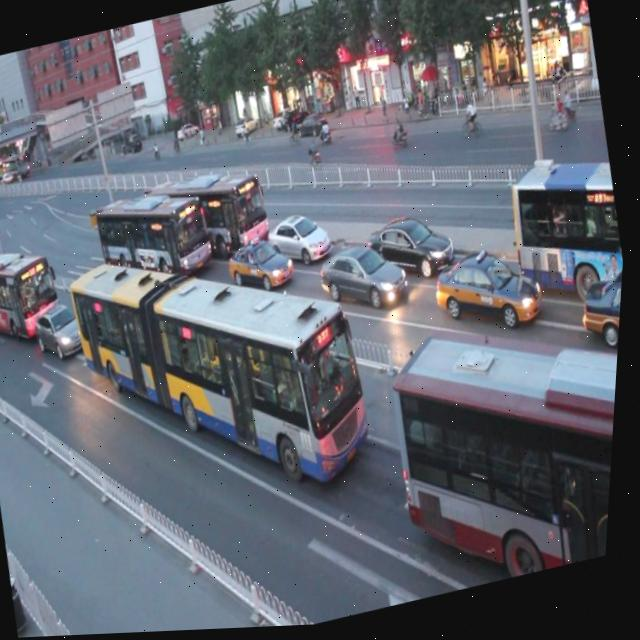car: (429, 238, 553, 353), (313, 232, 412, 327), (365, 204, 462, 291), (222, 227, 299, 303), (262, 202, 336, 277), (33, 295, 98, 365), (577, 272, 626, 354)
van: (55, 202, 393, 536), (377, 292, 625, 605), (500, 149, 632, 315), (88, 172, 222, 304), (144, 152, 279, 275), (0, 229, 66, 341)
